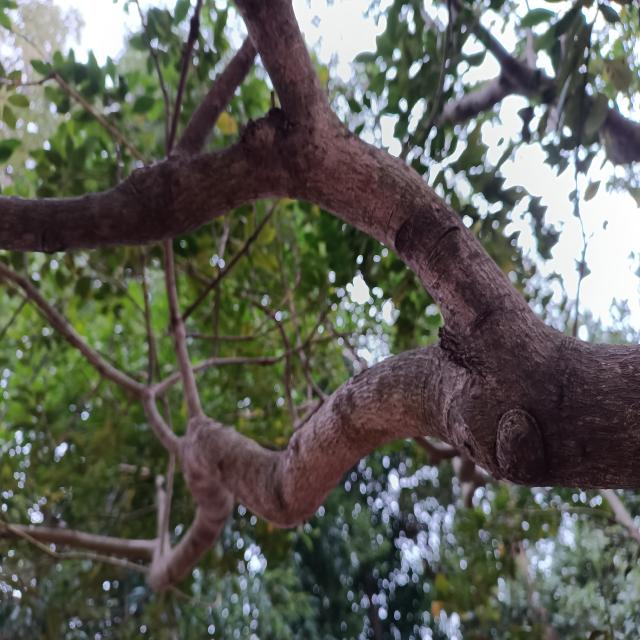Branch: (282, 89, 497, 323), (179, 348, 443, 532), (447, 283, 640, 493), (0, 116, 295, 250)
Twig: (12, 282, 264, 449), (174, 37, 255, 154), (231, 0, 319, 107), (144, 481, 216, 592), (162, 241, 206, 415), (24, 526, 159, 563)
